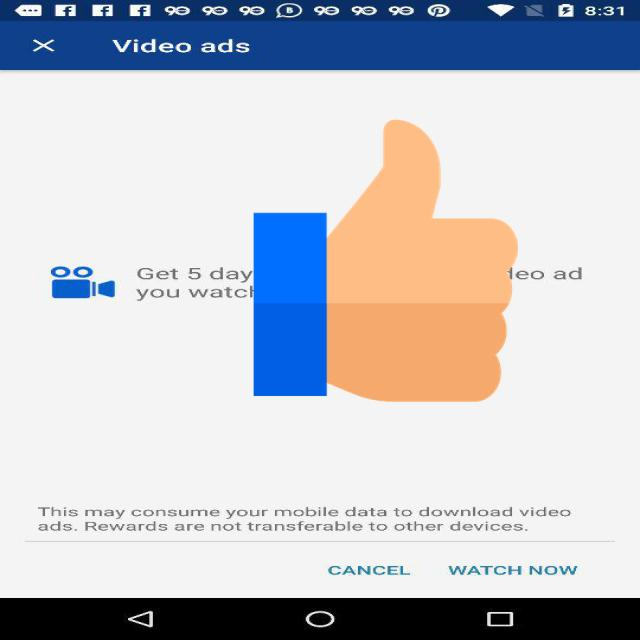privacy zuckering: (254, 112, 518, 408)
